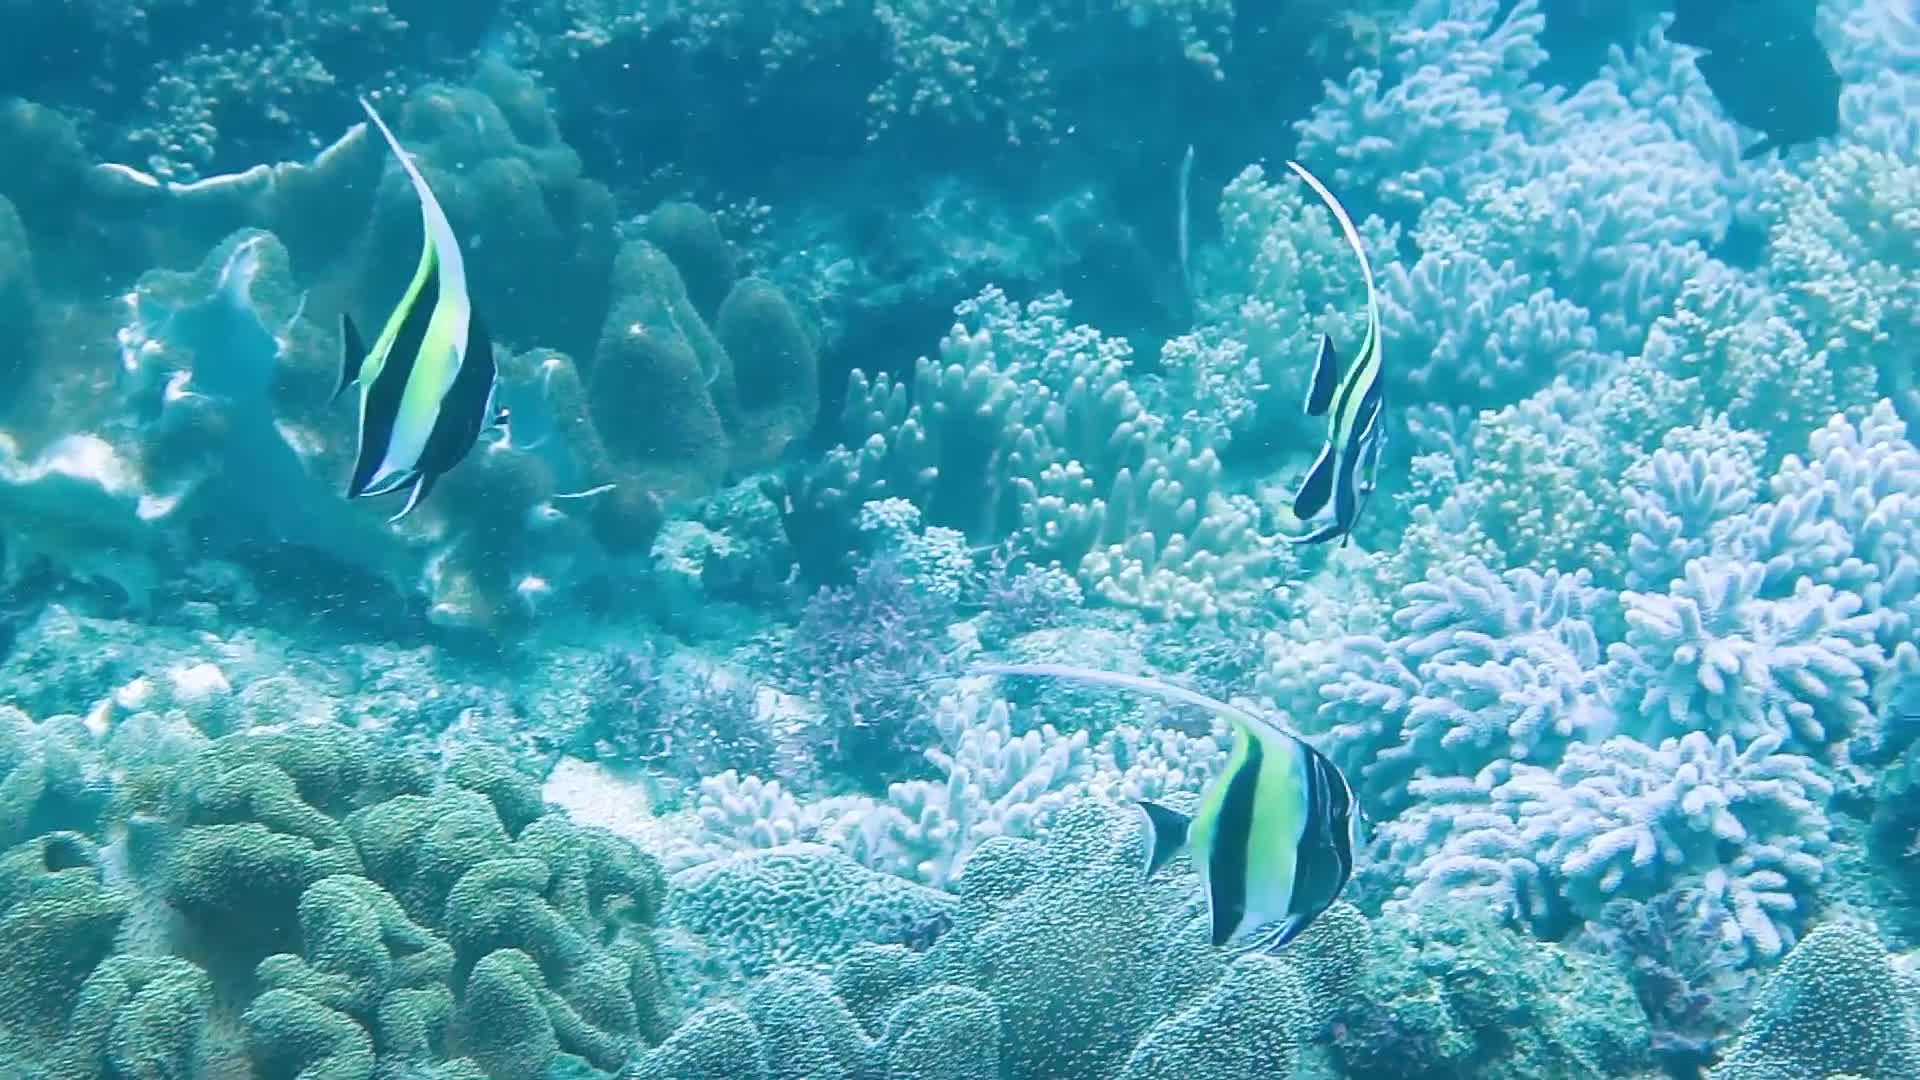Zanclus cornutus: (204, 119, 597, 556), (1137, 171, 1509, 571), (1106, 686, 1455, 978)
